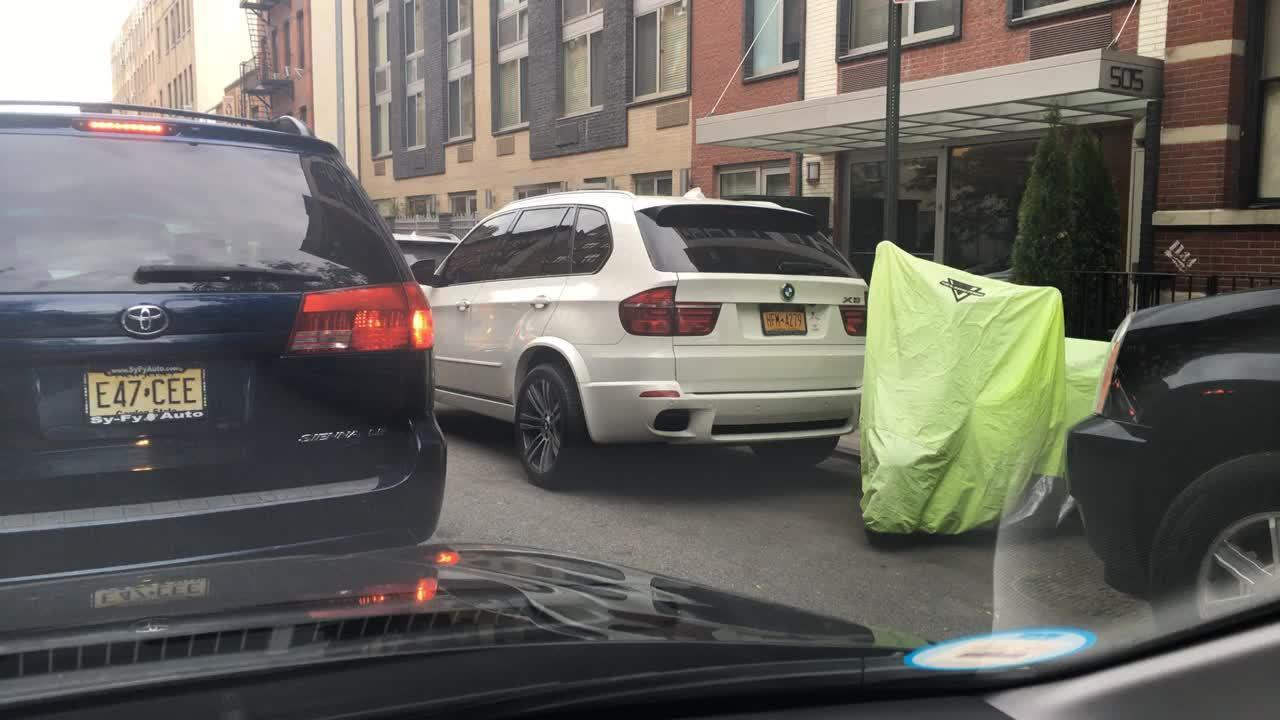bmw: (775, 279, 804, 306)
